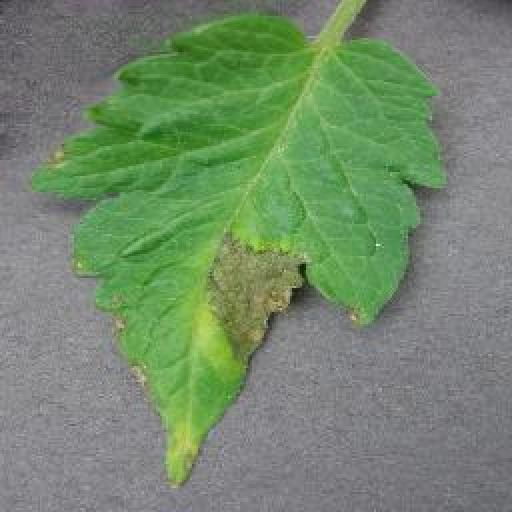disease_tomato: (32, 12, 446, 484)
